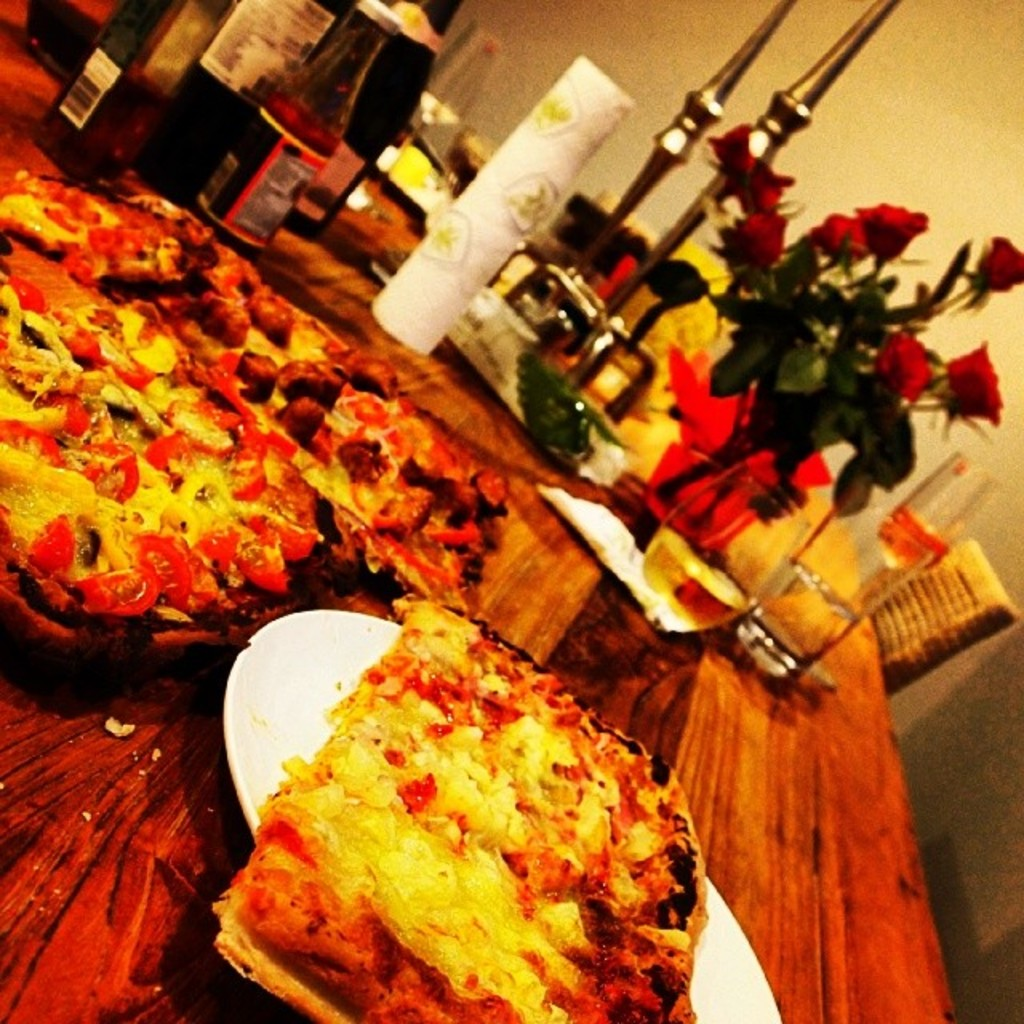Pizza: (0, 185, 521, 609), (206, 632, 702, 1016), (3, 235, 342, 619)
